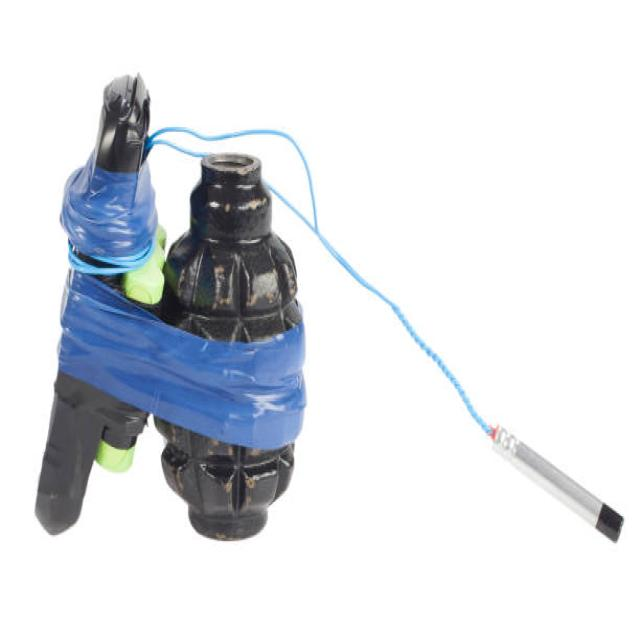grenade: (161, 141, 311, 547)
